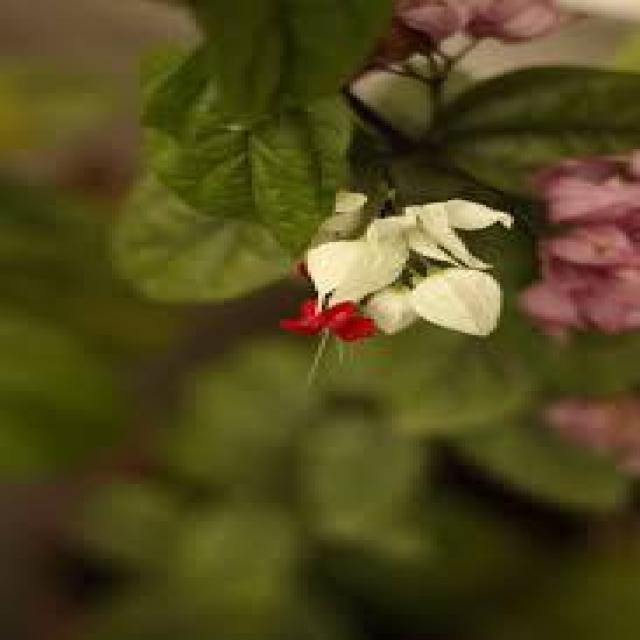organic waste: (274, 194, 530, 358)
